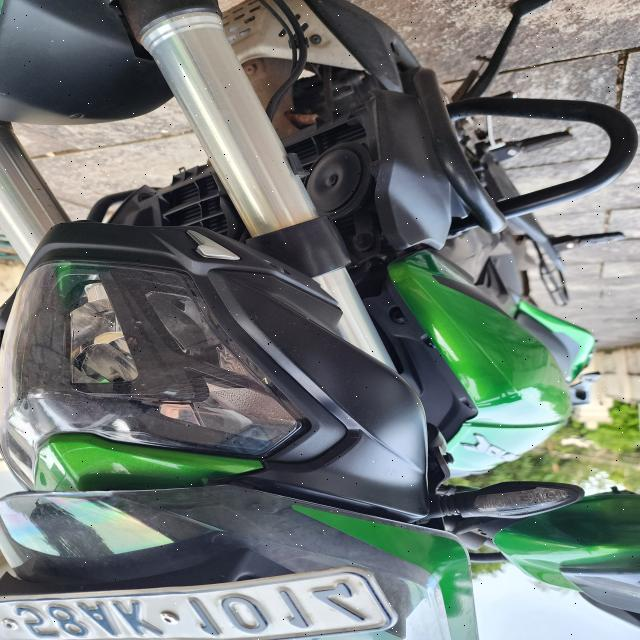headlight: (0, 252, 315, 494)
